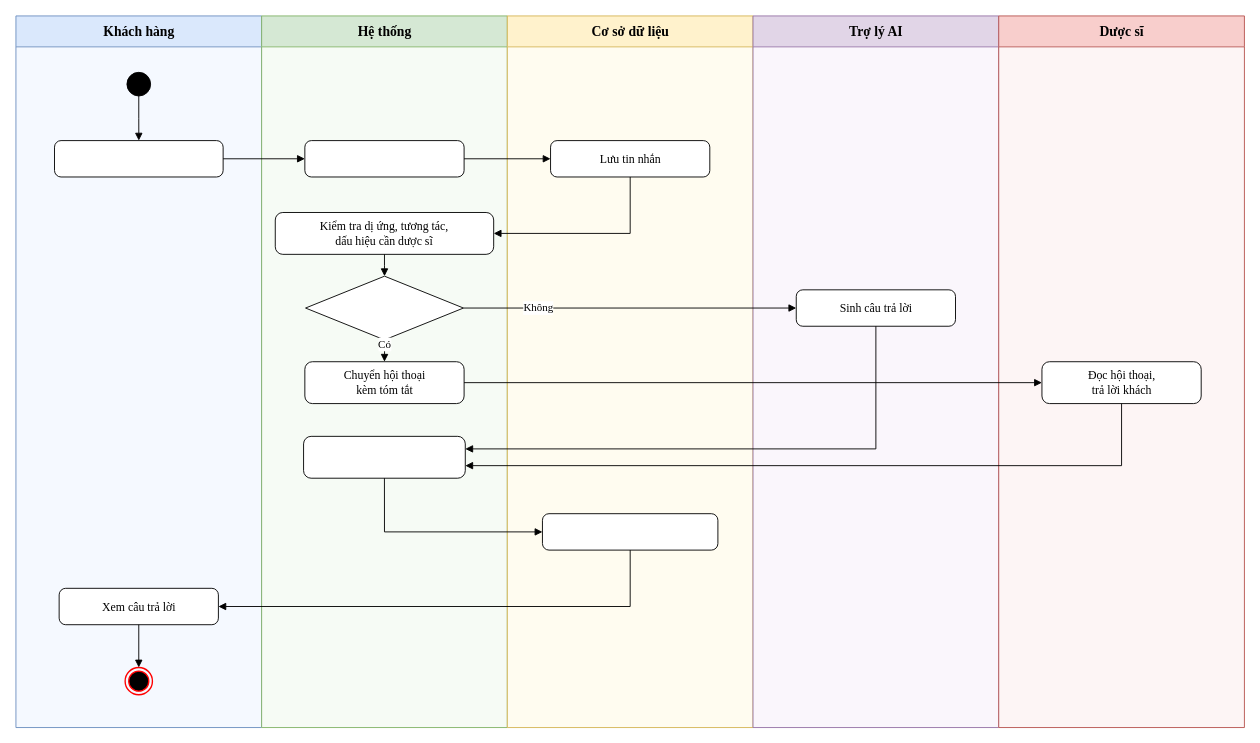
Image size: 1260x743. Some labels were removed from this diagram. Here are the shapes that lost their labels. From the top down, the centre of each, then its label:
At (138,158): "Nhập và gửi câu hỏi".
At (384,158): "Nhận tin nhắn".
At (384,307): "Cần dược sĩ tư vấn?".
At (384,456): "Lưu câu trả lời, gửi cho khách hàng".
At (630,531): "Lưu tin nhắn trả lời".
